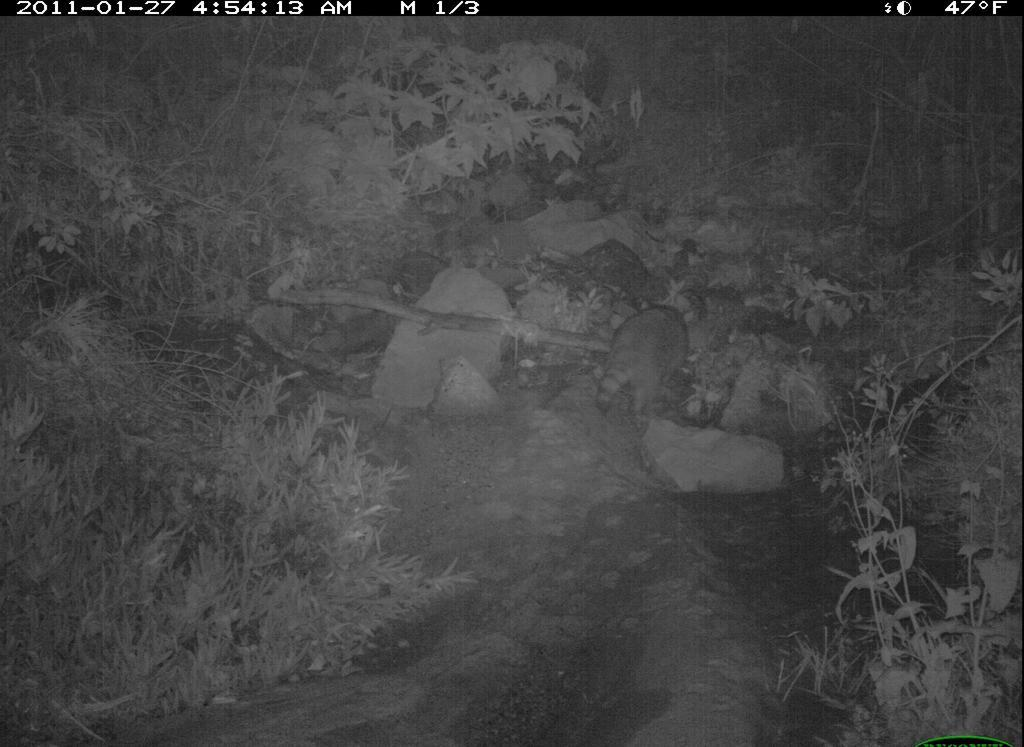raccoon: (579, 296, 708, 433)
